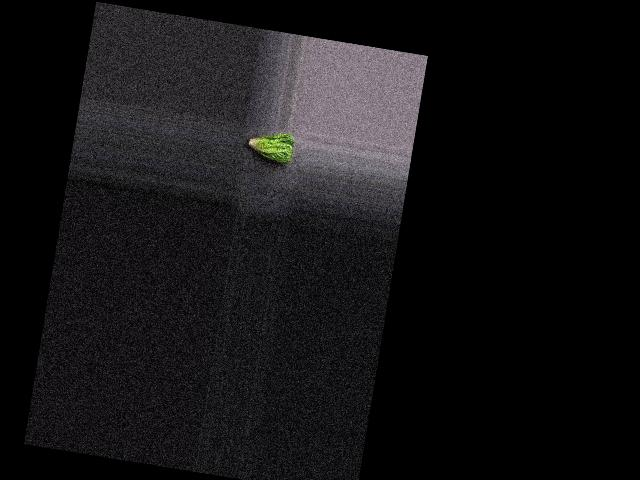lettuce: (242, 126, 296, 166)
